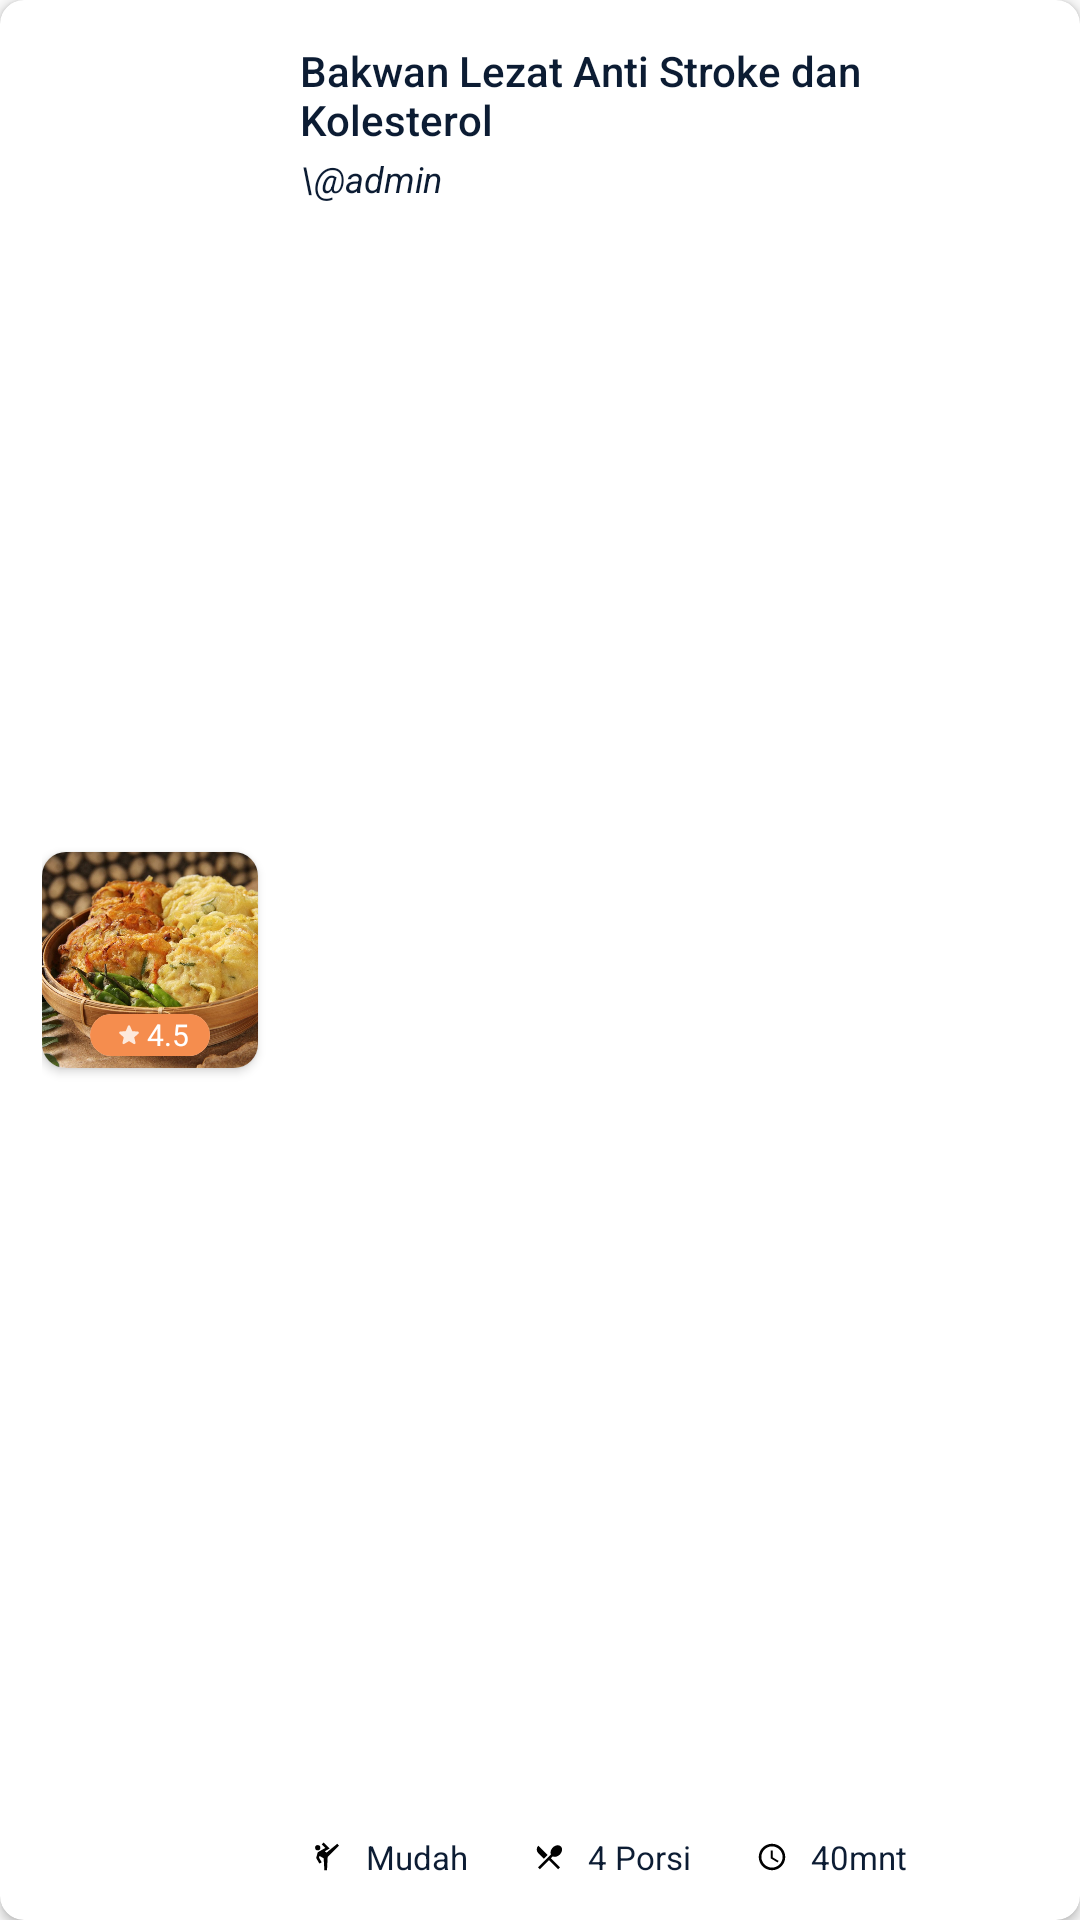

Screen size 1080x1920. Icon name, then its center in pixels as [x,y]:
martial: [327,1856]
time: [772,1857]
